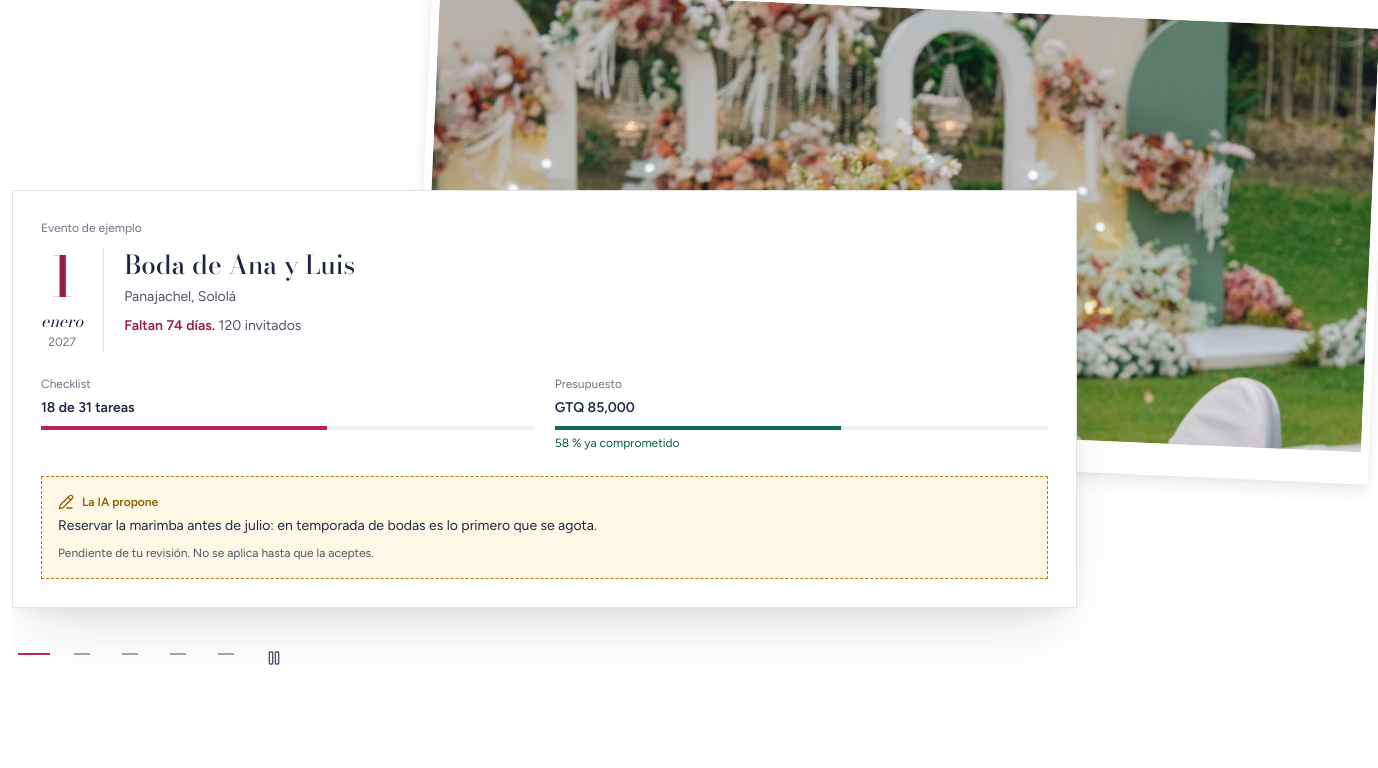
Test: carrusel del hero — paginación manual › seleccionar una diapositiva cambia imagen y tarjeta a la vez
This screenshot has width=1378, height=768.
Click the button named "Ver ejemplo de bautizo" at {"x": 130, "y": 654}, box [108, 632, 152, 676]
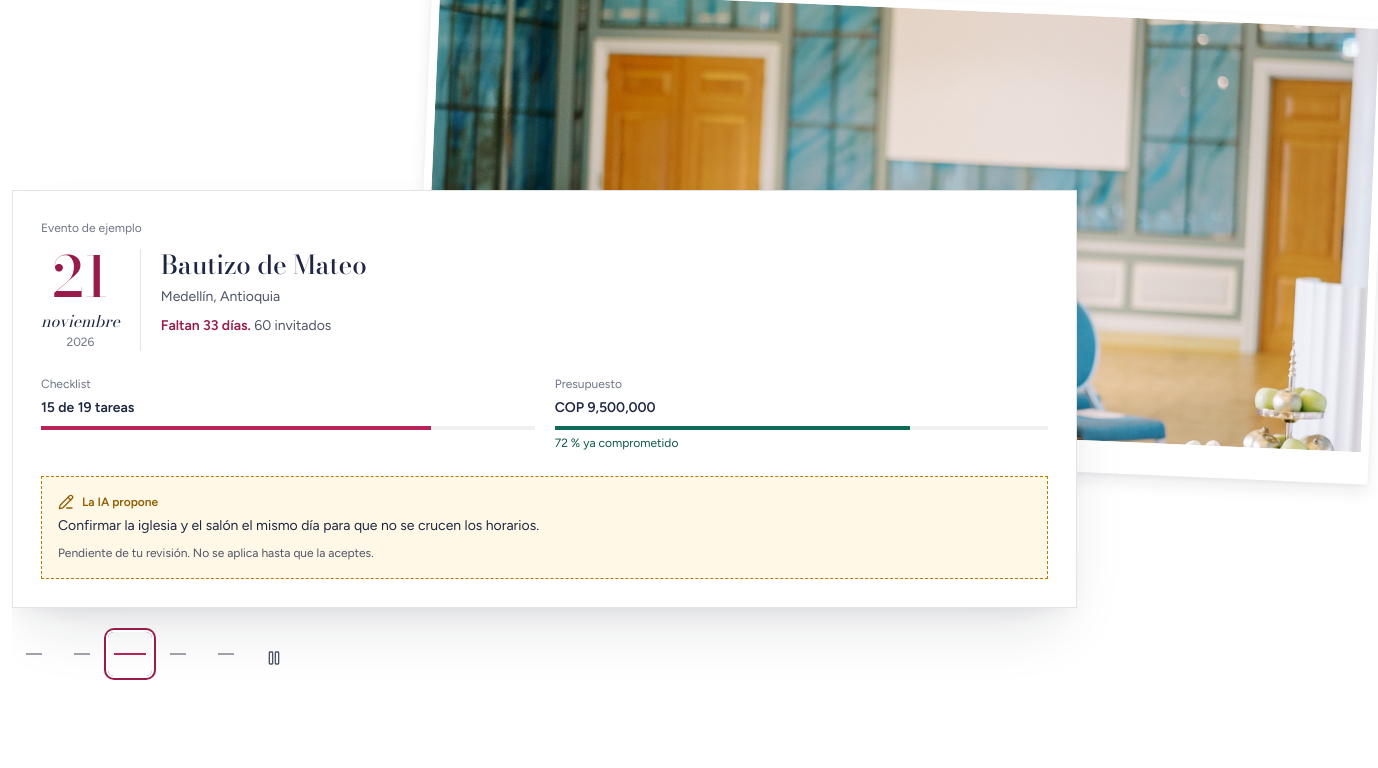
Now the element with test id "hero-carousel-card" shows "Bautizo de Mateo", box [161, 245, 367, 284]
Now the element with test id "hero-carousel-card" shows "Confirmar la iglesia y el salón el mismo día para que no se crucen los horarios.", box [58, 517, 539, 534]
